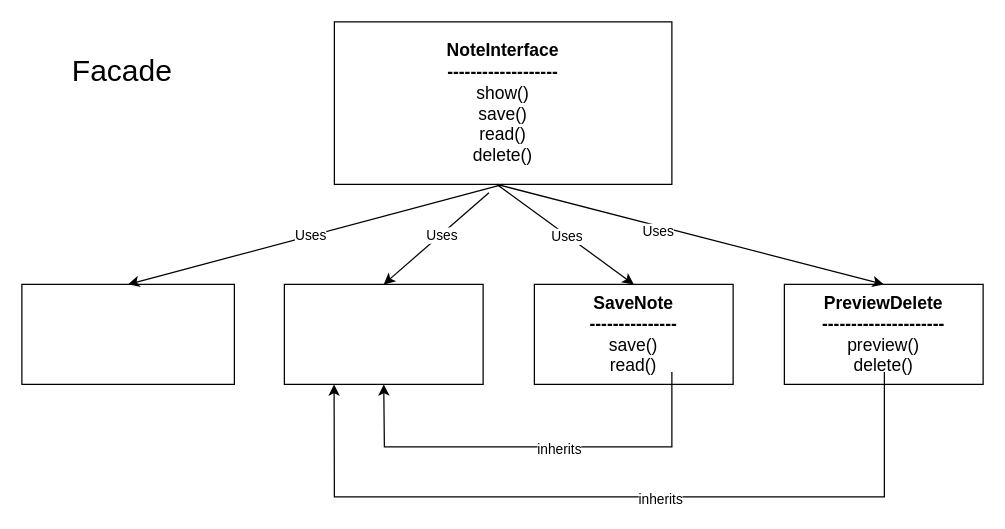
The diagram is 1005 pixels wide and 529 high, and some of its shapes have lost their labels. Here are the shapes that lost their labels. From the top down, the centre of each, then its label:
At pixel 127 333: "Author ---------------- email_valid() reg_author()".
At pixel 383 333: "Note ----------------- deactive() title content".
